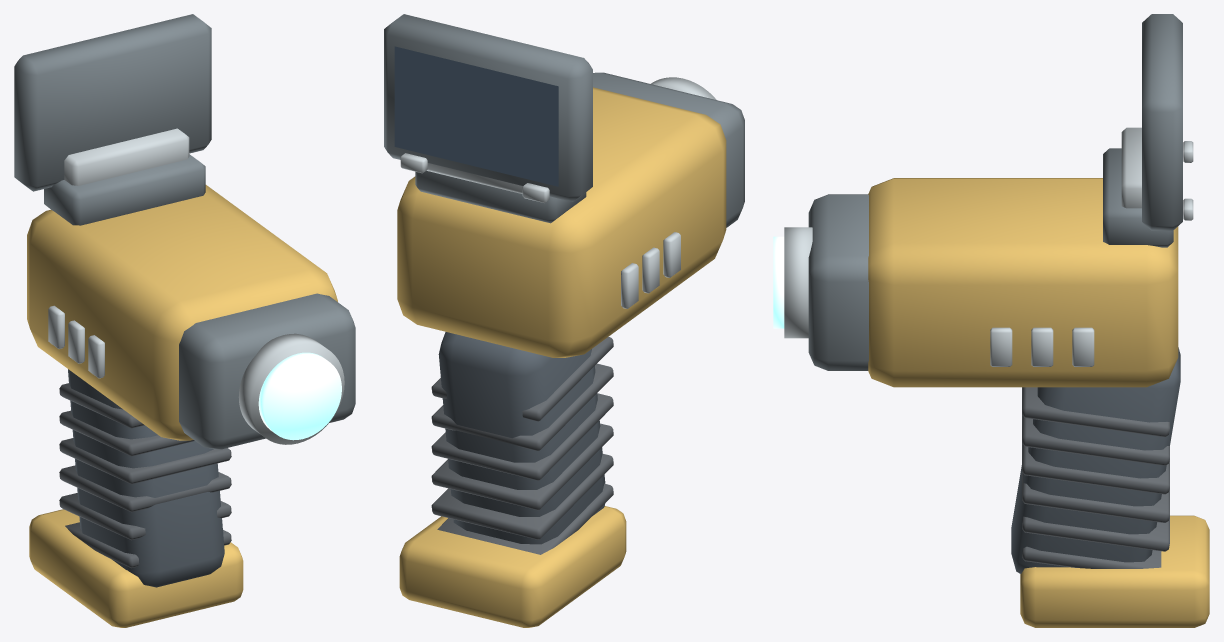
File: scanner_ultra.glb
3 views of the same model, side by side, from view 1: azimuth 30°, elevation 25°; view 2: azimuth 150°, elevation 25°; view 3: azimuth 270°, elevation 25° (orthographic). The views are drawn at different scales.
Parts seen in each view (by area): view 1: ToolBody_gold, LiveViewSurfaceFrame_frame, Grip_black, NoseHousing_frame, Battery_gold, GripRib_rubber, DisplayMount_frame, Lens_cyan, DisplayBracket_steel, LensMount_steel, HousingVent_steel; view 2: ToolBody_gold, Grip_black, LiveViewSurface_glass, Battery_gold, GripRib_rubber, LiveViewSurfaceFrame_frame, NoseHousing_frame, DisplayMount_frame, HousingVent_steel, DisplayControls_steel, DisplayBracket_steel, LensMount_steel; view 3: ToolBody_gold, Grip_black, Battery_gold, GripRib_rubber, NoseHousing_frame, LiveViewSurfaceFrame_frame, DisplayMount_frame, LensMount_steel, HousingVent_steel, DisplayBracket_steel, Lens_cyan.
Boxes of the visible parts, <box> form: ToolBody_gold: <box>27,185,337,440</box>; LiveViewSurfaceFrame_frame: <box>14,14,211,191</box>; Grip_black: <box>68,369,224,587</box>; NoseHousing_frame: <box>179,293,355,449</box>; Battery_gold: <box>29,509,243,627</box>; GripRib_rubber: <box>59,383,231,568</box>; DisplayMount_frame: <box>44,154,205,225</box>; Lens_cyan: <box>258,352,341,440</box>; DisplayBracket_steel: <box>64,128,189,185</box>; LensMount_steel: <box>238,333,344,444</box>; HousingVent_steel: <box>48,305,104,378</box>; ToolBody_gold: <box>397,87,726,357</box>; Grip_black: <box>438,332,605,544</box>; LiveViewSurface_glass: <box>394,46,558,186</box>; Battery_gold: <box>399,506,626,627</box>; GripRib_rubber: <box>431,337,613,554</box>; LiveViewSurfaceFrame_frame: <box>384,14,592,201</box>; NoseHousing_frame: <box>593,72,744,227</box>; DisplayMount_frame: <box>415,170,586,223</box>; HousingVent_steel: <box>621,232,680,308</box>; DisplayControls_steel: <box>400,153,549,202</box>; DisplayBracket_steel: <box>426,163,522,193</box>; LensMount_steel: <box>651,77,716,99</box>; ToolBody_gold: <box>868,178,1178,387</box>; Grip_black: <box>1011,347,1180,573</box>; Battery_gold: <box>1020,515,1209,627</box>; GripRib_rubber: <box>1022,387,1169,568</box>; NoseHousing_frame: <box>808,194,868,370</box>; LiveViewSurfaceFrame_frame: <box>1142,14,1182,230</box>; DisplayMount_frame: <box>1103,148,1173,247</box>; LensMount_steel: <box>784,227,812,338</box>; HousingVent_steel: <box>990,327,1094,366</box>; DisplayBracket_steel: <box>1121,127,1141,208</box>; Lens_cyan: <box>773,236,784,328</box>.
Size of the model in its own units: 0.371 by 0.95 by 0.691.
